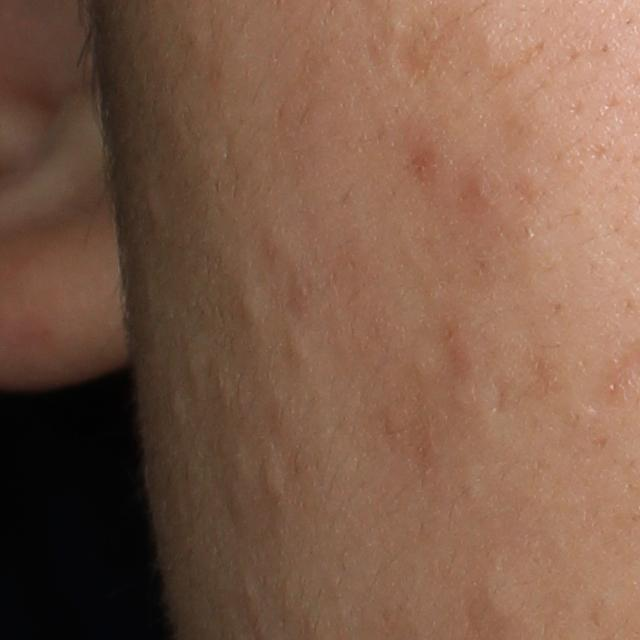atrophic_scar: (387, 11, 447, 89), (490, 378, 513, 420)
comedo: (233, 280, 272, 322), (255, 456, 285, 499), (282, 329, 311, 365), (166, 387, 188, 422)
